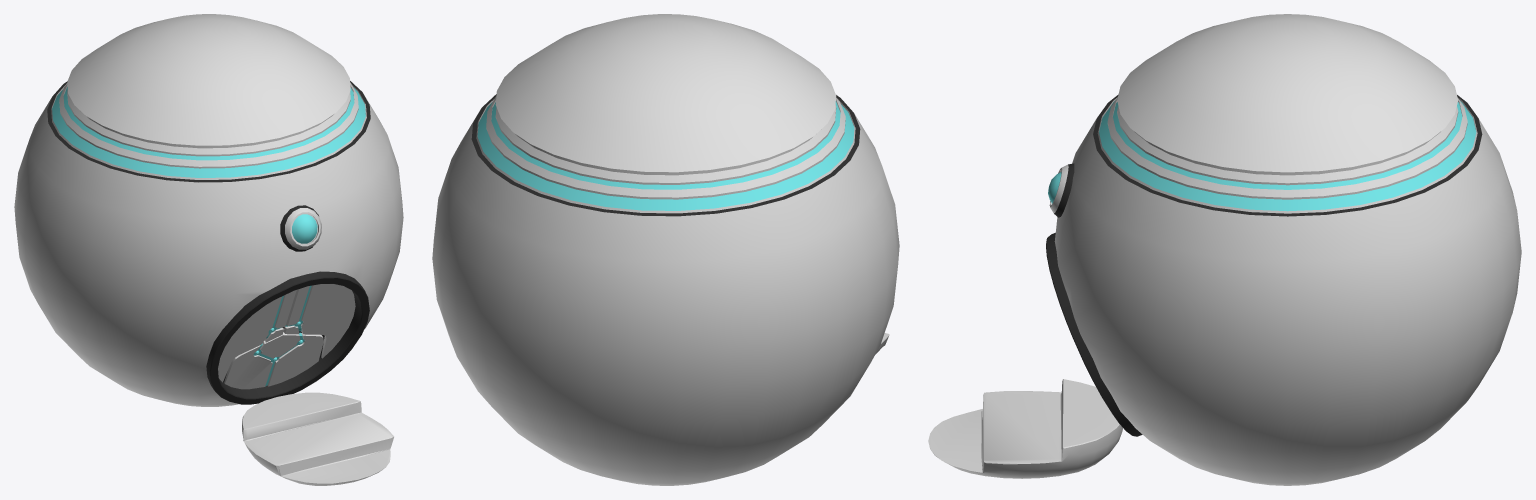
The model's file is m_Ruins_House.fbx.
The picture shows the model from 3 angles, left to right: view 1: azimuth 30°, elevation 25°; view 2: azimuth 150°, elevation 25°; view 3: azimuth 270°, elevation 25°; orthographic projection. The views are drawn at different scales.
Parts seen in each view (by area): view 1: BallHouse, Stairs3; view 2: BallHouse; view 3: BallHouse, Stairs3.
Part boxes in pixels (x1=…): BallHouse: x1=14, y1=14, x2=403, y2=406; Stairs3: x1=242, y1=392, x2=393, y2=485; BallHouse: x1=432, y1=14, x2=899, y2=485; BallHouse: x1=1046, y1=14, x2=1521, y2=485; Stairs3: x1=928, y1=379, x2=1122, y2=478.
Bounding box in the file's own units: 2102 × 2120 × 2665.
